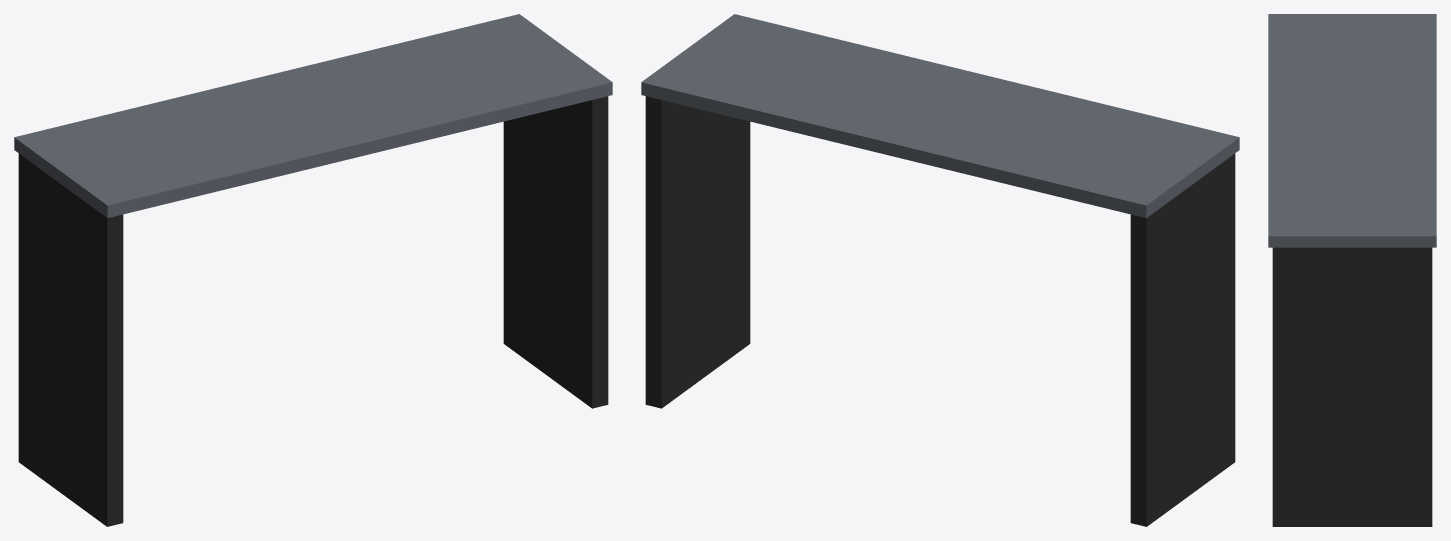
Rendered from ENV_SpareShelf.fbx.
3 views of the same model, side by side, from view 1: azimuth 30°, elevation 25°; view 2: azimuth 150°, elevation 25°; view 3: azimuth 270°, elevation 25° (orthographic). The views are drawn at different scales.
Visible parts, largest first — view 1: ENV_SpareShelf, Leg.004, Leg.005; view 2: ENV_SpareShelf, Leg.004, Leg.005; view 3: Leg.005, ENV_SpareShelf.
Part boxes in pixels (left/top/right/bottom): ENV_SpareShelf: left=14, top=14, right=612, bottom=218; Leg.004: left=18, top=153, right=123, bottom=526; Leg.005: left=503, top=96, right=608, bottom=408; ENV_SpareShelf: left=641, top=14, right=1239, bottom=218; Leg.004: left=1130, top=153, right=1235, bottom=526; Leg.005: left=645, top=96, right=750, bottom=408; Leg.005: left=1272, top=247, right=1432, bottom=526; ENV_SpareShelf: left=1268, top=14, right=1436, bottom=247.
Size of the model in its own units: 1.25 by 0.765 by 0.4.
1 material, 1 textured.
